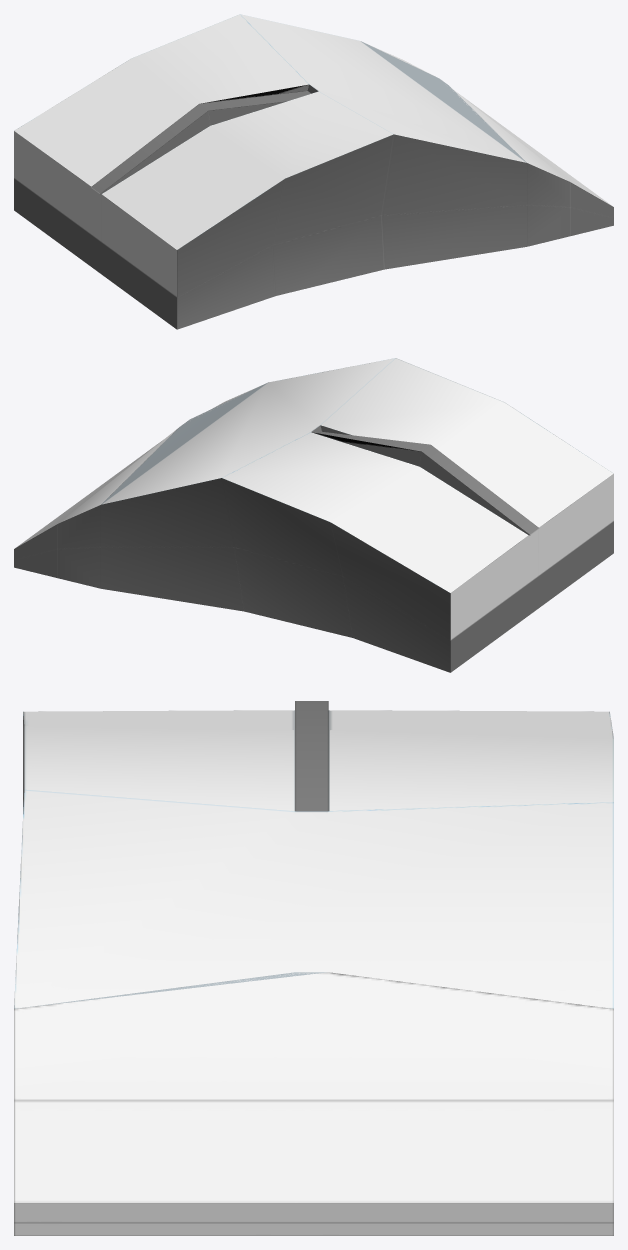
The model's file is Mouse.fbx.
The picture shows the model from 3 angles, top to bottom: view 1: azimuth 30°, elevation 25°; view 2: azimuth 150°, elevation 25°; view 3: azimuth 270°, elevation 25°; orthographic projection. The views are drawn at different scales.
Visible parts, largest first — view 1: pCube1; view 2: pCube1; view 3: pCube1.
Boxes of the visible parts, x1=… form: pCube1: x1=14, y1=14, x2=613, y2=329; pCube1: x1=14, y1=358, x2=613, y2=672; pCube1: x1=14, y1=701, x2=613, y2=1235.
Bounding box in the file's own units: 1.51 × 0.4701 × 1.
Materials: 1 (1 with a texture image).
